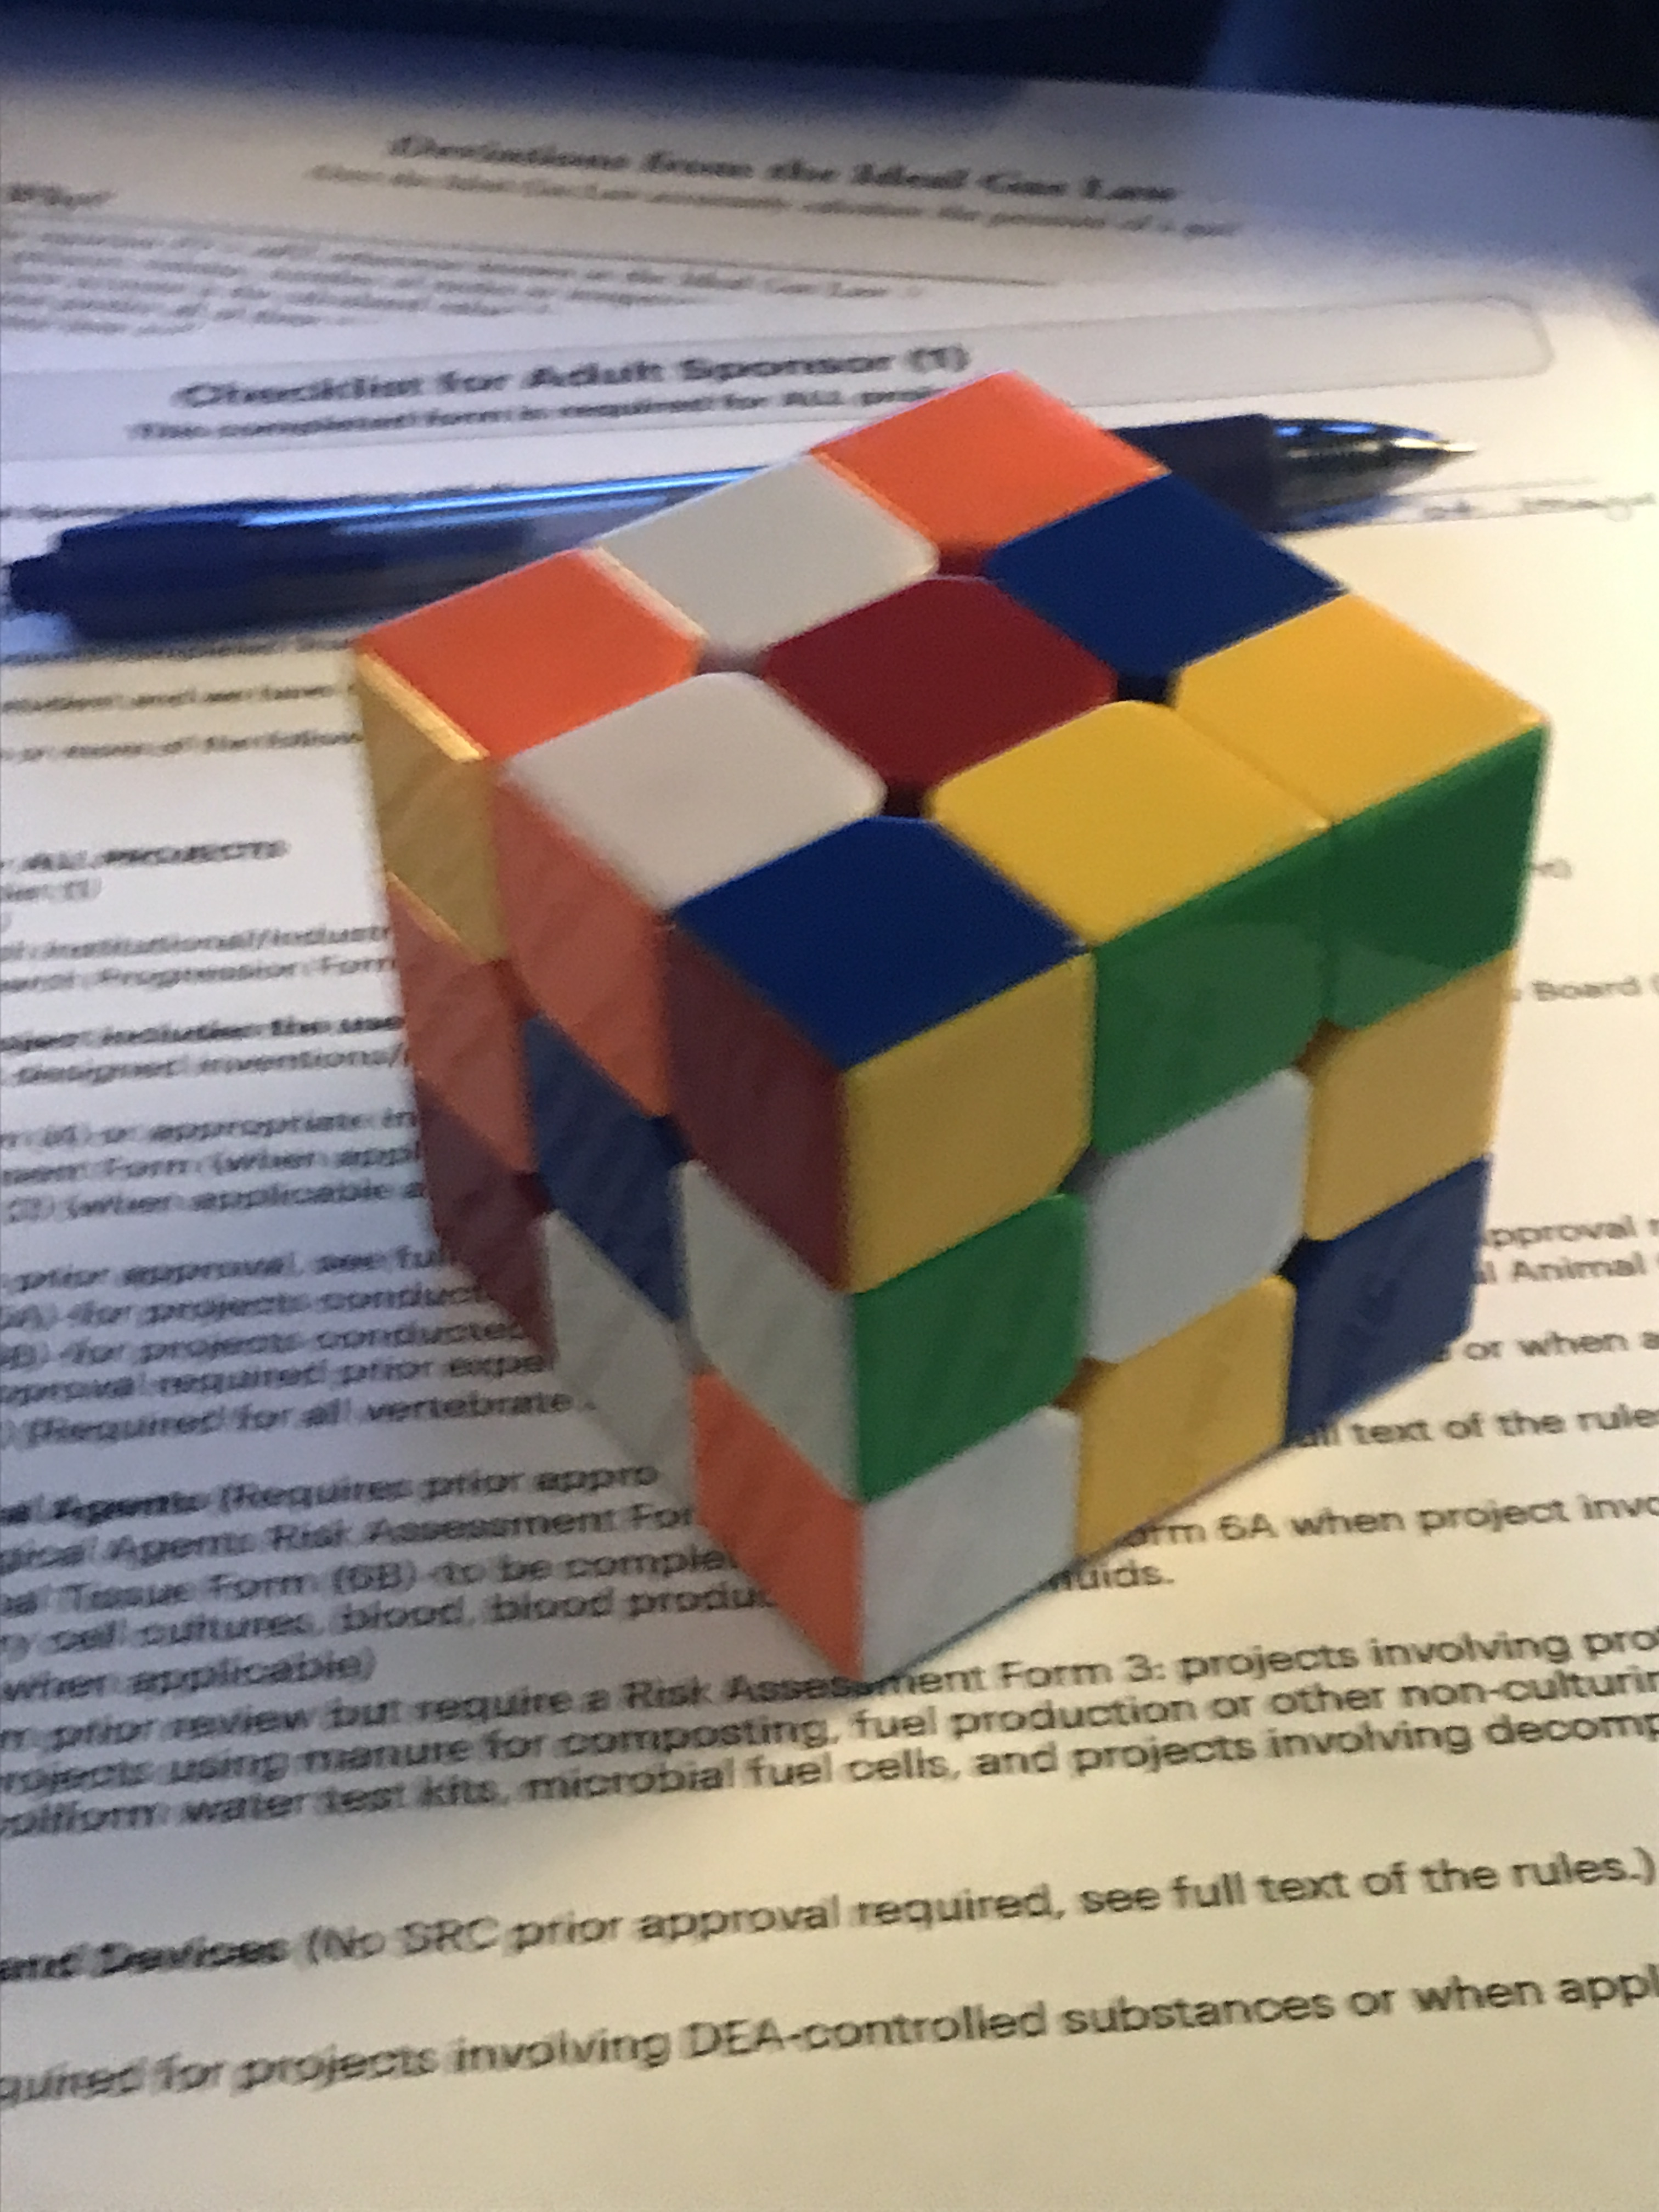rubiks: (356, 378, 1568, 1707)
